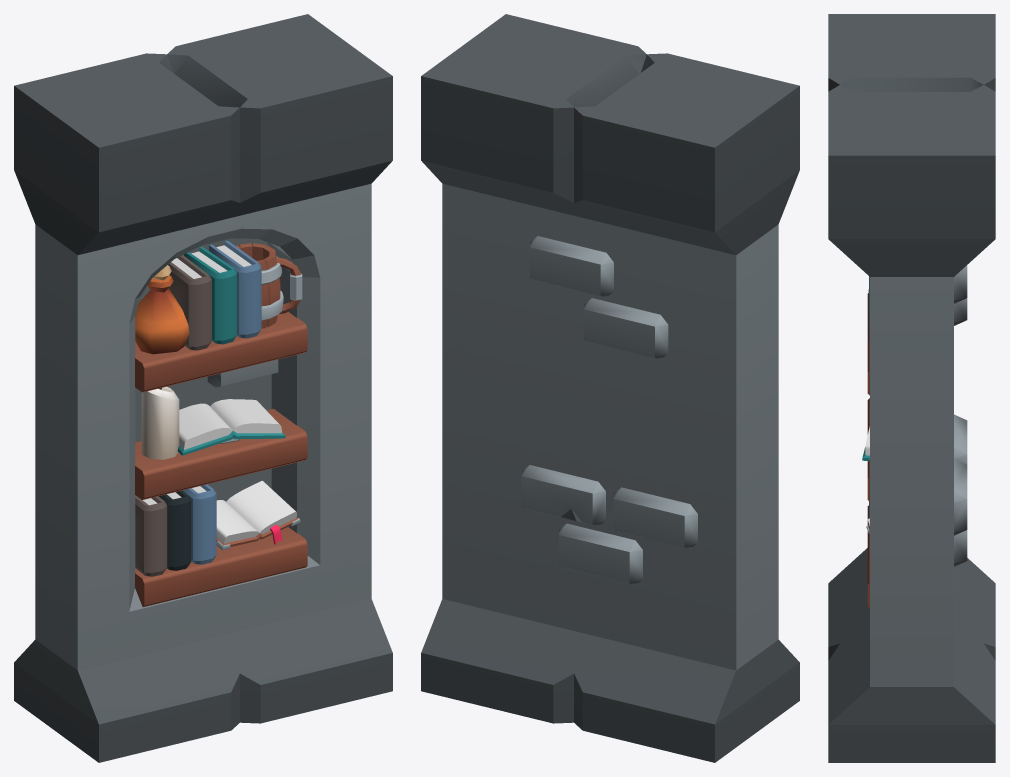
Rendered from wall_alcove_half_A.glb.
3 views of the same model, side by side, from view 1: azimuth 30°, elevation 25°; view 2: azimuth 150°, elevation 25°; view 3: azimuth 270°, elevation 25° (orthographic).
Parts seen in each view (by area): view 1: Item; view 2: Item; view 3: Item.
Part boxes in pixels (x1,y1,x2,y2): Item: (14, 14, 392, 762); Item: (421, 14, 799, 762); Item: (828, 14, 995, 762).
Bounding box in the file's own units: 2 × 4 × 1.
5 materials, 5 textured.
